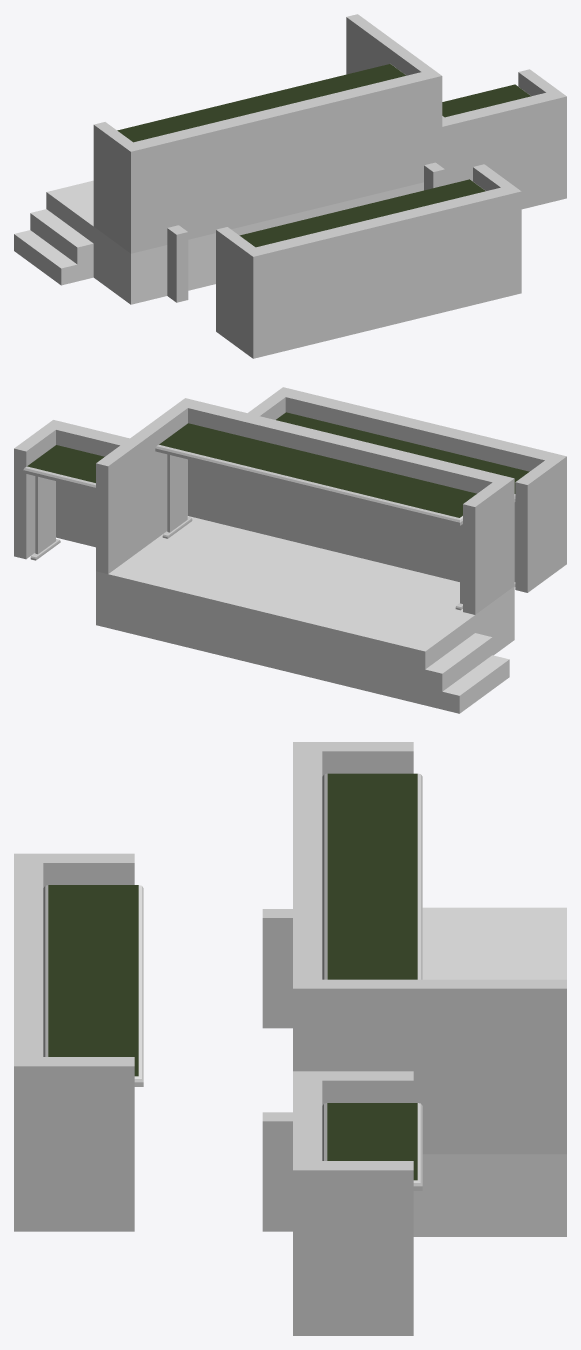
File: Courtroom.fbx
3 renders of one model, top to bottom at view 1: azimuth 30°, elevation 25°; view 2: azimuth 150°, elevation 25°; view 3: azimuth 270°, elevation 25°, orthographic. The views are drawn at different scales.
Parts seen in each view (by area): view 1: Judge Stand, Clerk Stand, Judge Raised Floor, Witness Stand, Judge Desk, Clerk Desk, Divider, Witness Desk; view 2: Judge Raised Floor, Judge Stand, Clerk Stand, Judge Desk, Witness Stand, Witness Desk, Clerk Desk; view 3: Judge Stand, Clerk Stand, Witness Stand, Judge Raised Floor, Judge Desk, Clerk Desk, Divider, Witness Desk.
Part boxes in pixels (x1,y1,x2,y2): Judge Stand: (93,14,442,253); Clerk Stand: (216,164,521,358); Judge Raised Floor: (14,180,423,304); Witness Stand: (442,69,566,209); Judge Desk: (117,64,406,142); Clerk Desk: (239,179,485,247); Divider: (167,162,444,302); Witness Desk: (442,84,530,117); Judge Raised Floor: (96,516,514,713); Judge Stand: (96,398,514,614); Clerk Stand: (248,387,566,592); Judge Desk: (155,423,476,610); Witness Stand: (14,420,129,559); Witness Desk: (23,445,104,560); Clerk Desk: (276,412,529,586); Judge Stand: (293,742,566,1154); Clerk Stand: (14,853,134,1231); Witness Stand: (293,1071,413,1335); Judge Raised Floor: (413,907,566,1236); Judge Desk: (322,773,422,979); Clerk Desk: (43,885,143,1086); Divider: (262,909,292,1231); Witness Desk: (322,1103,422,1190).
Size of the model in its own units: 440 by 277 by 137.
